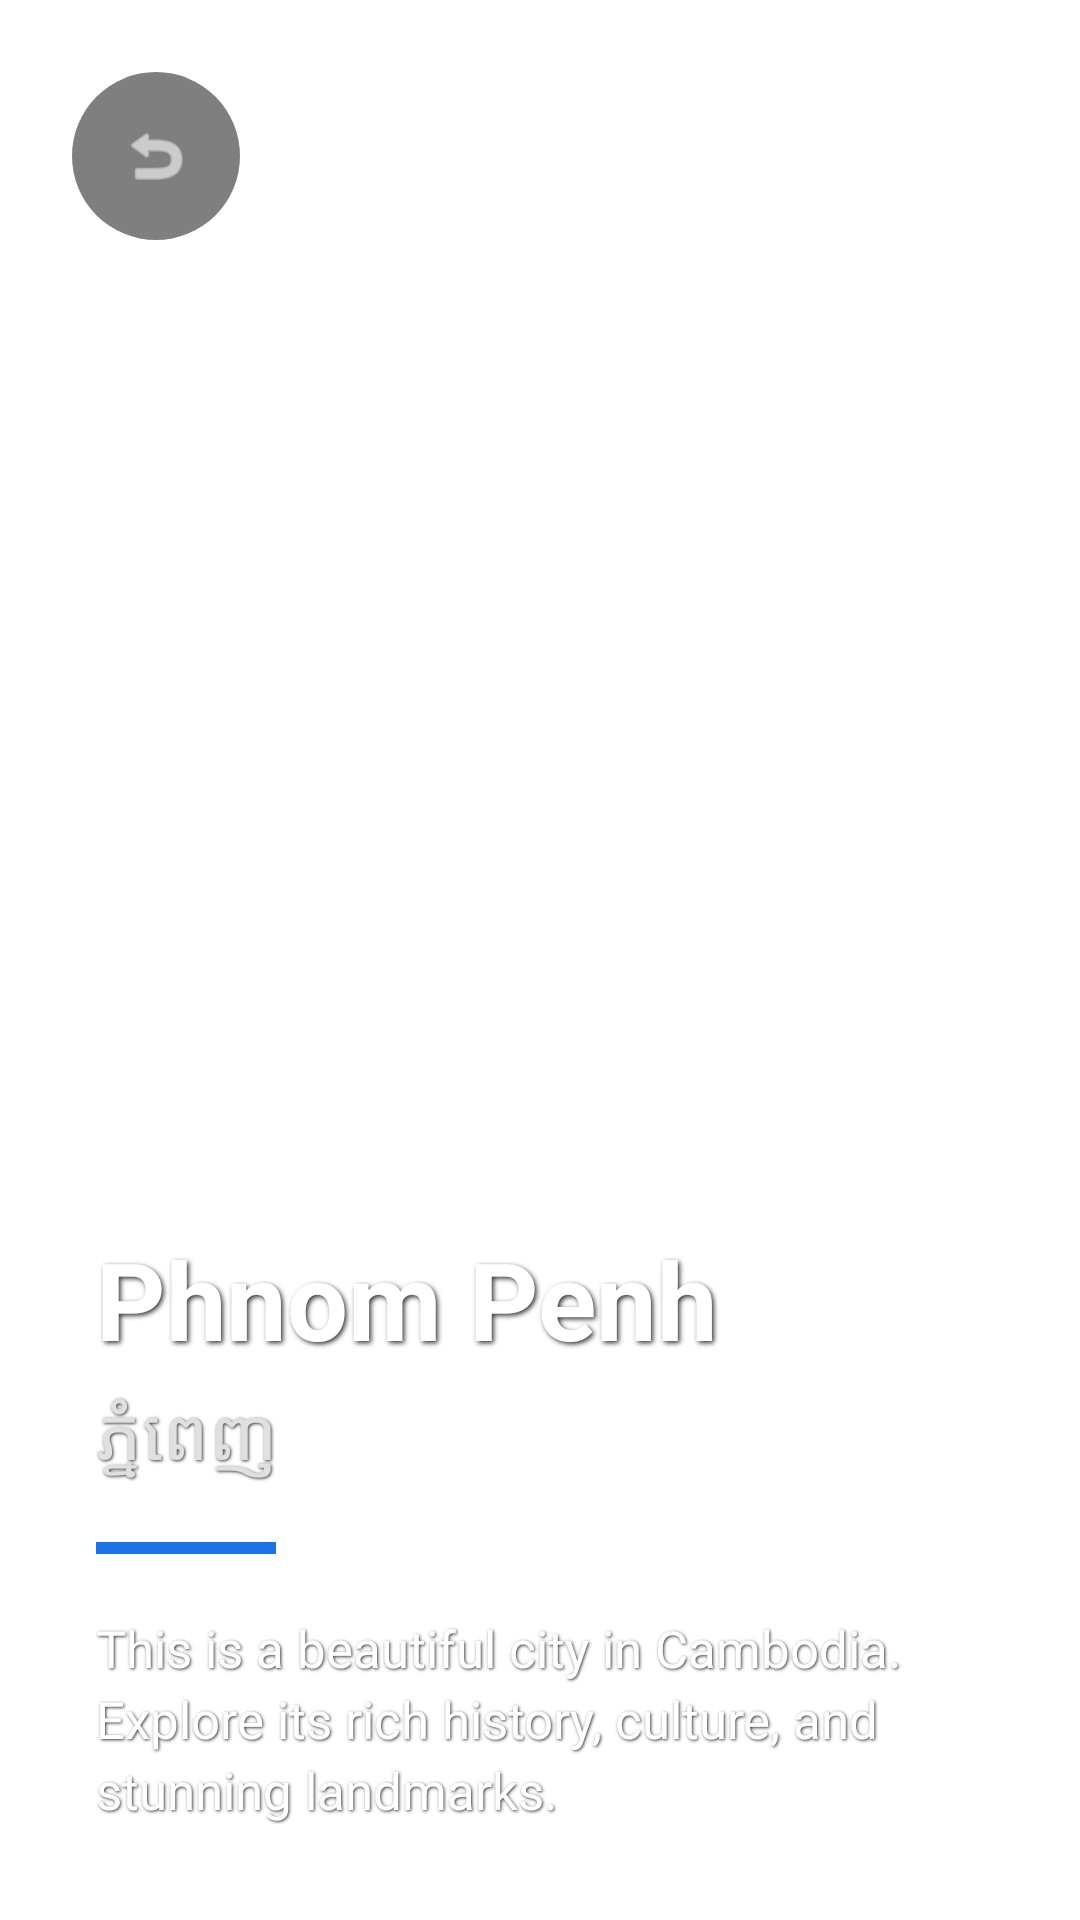

Locate icon controls on the screen. Image size 1080×1920, boxes as (x1, y1, x2, y2).
revert: (72, 72, 240, 240)
